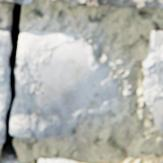brick: (142, 29, 162, 131), (66, 0, 162, 7), (38, 155, 85, 162), (0, 0, 30, 3), (0, 160, 22, 162)
broken_brick: (10, 29, 117, 136), (0, 29, 10, 142)
crack: (0, 2, 21, 160)
